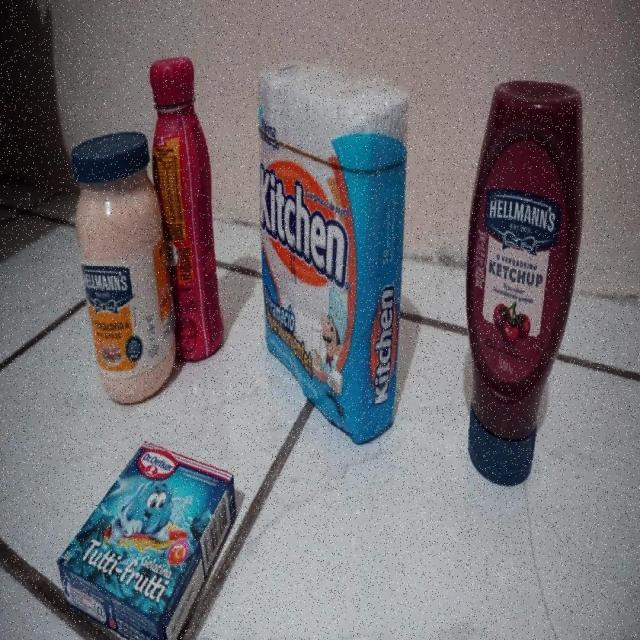ChocolateMilk: (148, 55, 226, 364)
Gelatine: (55, 437, 240, 640)
Ketchup: (466, 81, 584, 494)
Mayonnaise: (72, 132, 176, 407)
Napkin: (255, 53, 415, 447)
